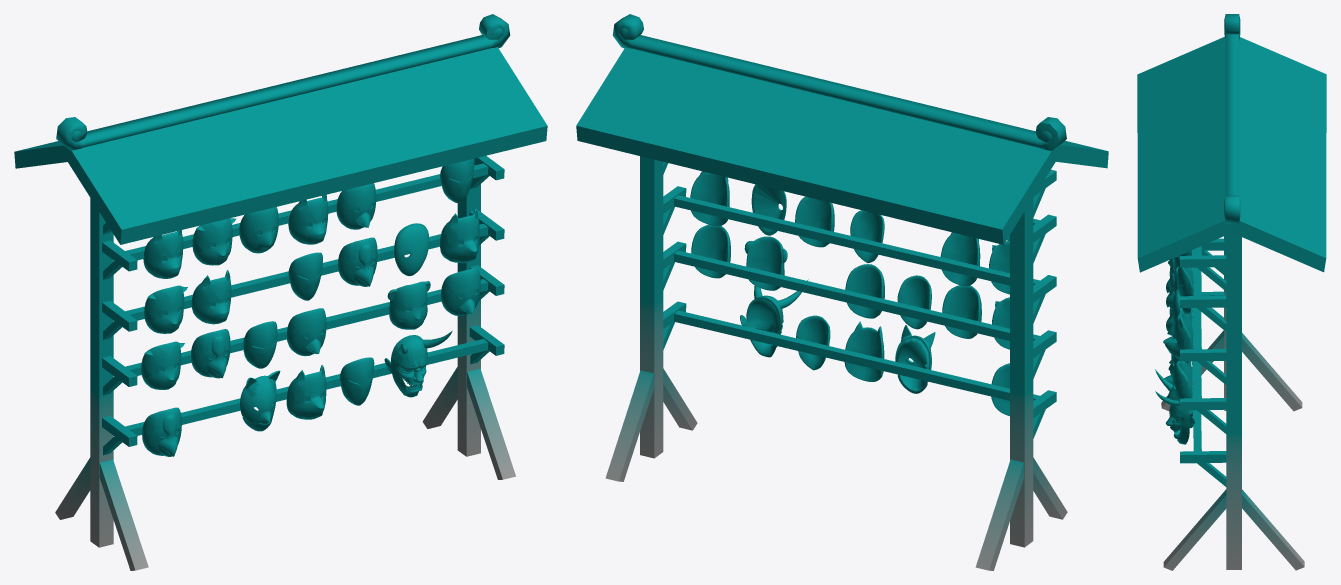
Rendered from SM_ENV_LKNVLD_Stall_J.gltf.
3 renders of one model, left to right at view 1: azimuth 30°, elevation 25°; view 2: azimuth 150°, elevation 25°; view 3: azimuth 270°, elevation 25°, orthographic. The views are drawn at different scales.
Visible parts, largest first — view 1: SM_ENV_LKNVLD_Stall_J; view 2: SM_ENV_LKNVLD_Stall_J; view 3: SM_ENV_LKNVLD_Stall_J.
Part boxes in pixels (x1,y1,x2,y2): SM_ENV_LKNVLD_Stall_J: [14, 14, 547, 570]; SM_ENV_LKNVLD_Stall_J: [576, 14, 1108, 570]; SM_ENV_LKNVLD_Stall_J: [1137, 14, 1326, 570].
Bounding box in the file's own units: 2.6 × 2.4 × 1.08.
